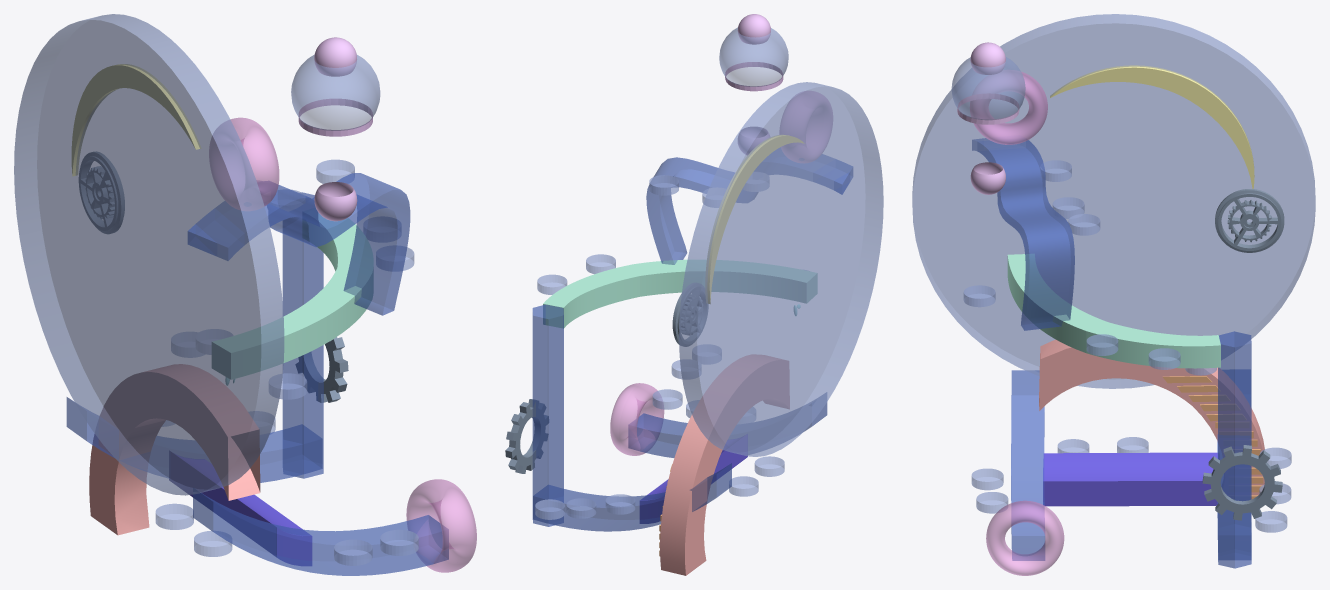
The picture shows the model from 3 angles, left to right: view 1: azimuth 30°, elevation 25°; view 2: azimuth 150°, elevation 25°; view 3: azimuth 270°, elevation 25°; orthographic projection. The views are drawn at different scales.
Visible parts, largest first — view 1: 物件_5.002, 立方体.002, 物件_10.010, 物件_11.013, 物件_7.011, 物件_1.003, gear38_gears_0.007, gear13_gears_0.003, 柱体.141, 柱体.049, 柱体.140, 柱体.139 (+5 smaller); view 2: 物件_5.002, 立方体.002, 物件_11.013, 物件_7.011, 物件_10.010, gear13_gears_0.003, gear38_gears_0.007, 物件_1.003, 柱体.057, 柱体.043, 柱体.048, 柱体.055 (+7 smaller); view 3: 物件_5.002, 物件_10.010, 物件_1.003, 立方体.002, 物件_11.013, 物件_7.011, gear13_gears_0.003, gear38_gears_0.007, 柱体.141, 柱体.062, 柱体.060, 柱体.139 (+5 smaller).
Part boxes in pixels (x1,y1,x2,y2): 物件_5.002: (14, 14, 476, 575); 立方体.002: (89, 364, 260, 535); 物件_10.010: (187, 173, 410, 315); 物件_11.013: (212, 213, 373, 379); 物件_7.011: (282, 192, 323, 478); 物件_1.003: (169, 451, 312, 565); gear38_gears_0.007: (79, 151, 124, 233); gear13_gears_0.003: (295, 337, 348, 402); 柱体.141: (334, 539, 372, 565); 柱体.049: (155, 503, 193, 529); 柱体.140: (380, 529, 418, 555); 柱体.139: (269, 373, 307, 399); 物件_5.002: (533, 14, 883, 531); 立方体.002: (659, 354, 789, 575); 物件_11.013: (543, 259, 817, 328); 物件_7.011: (532, 304, 563, 526); 物件_10.010: (646, 148, 852, 264); gear13_gears_0.003: (505, 399, 548, 473); gear38_gears_0.007: (672, 283, 708, 346); 物件_1.003: (639, 434, 747, 523); 柱体.057: (605, 494, 635, 514); 柱体.043: (652, 389, 682, 409); 柱体.048: (566, 498, 596, 518); 柱体.055: (754, 456, 784, 476); 物件_5.002: (912, 14, 1315, 575); 物件_10.010: (972, 138, 1074, 330); 物件_1.003: (1043, 452, 1218, 506); 立方体.002: (1039, 339, 1264, 499); 物件_11.013: (1007, 254, 1220, 368); 物件_7.011: (1218, 331, 1251, 568); gear13_gears_0.003: (1202, 445, 1282, 520); gear38_gears_0.007: (1215, 189, 1284, 252); 柱体.141: (971, 468, 1003, 490); 柱体.062: (1148, 348, 1180, 369); 柱体.060: (1086, 334, 1118, 355); 柱体.139: (963, 285, 995, 307).
Size of the model in its own units: 2061 by 3798 by 2896.
